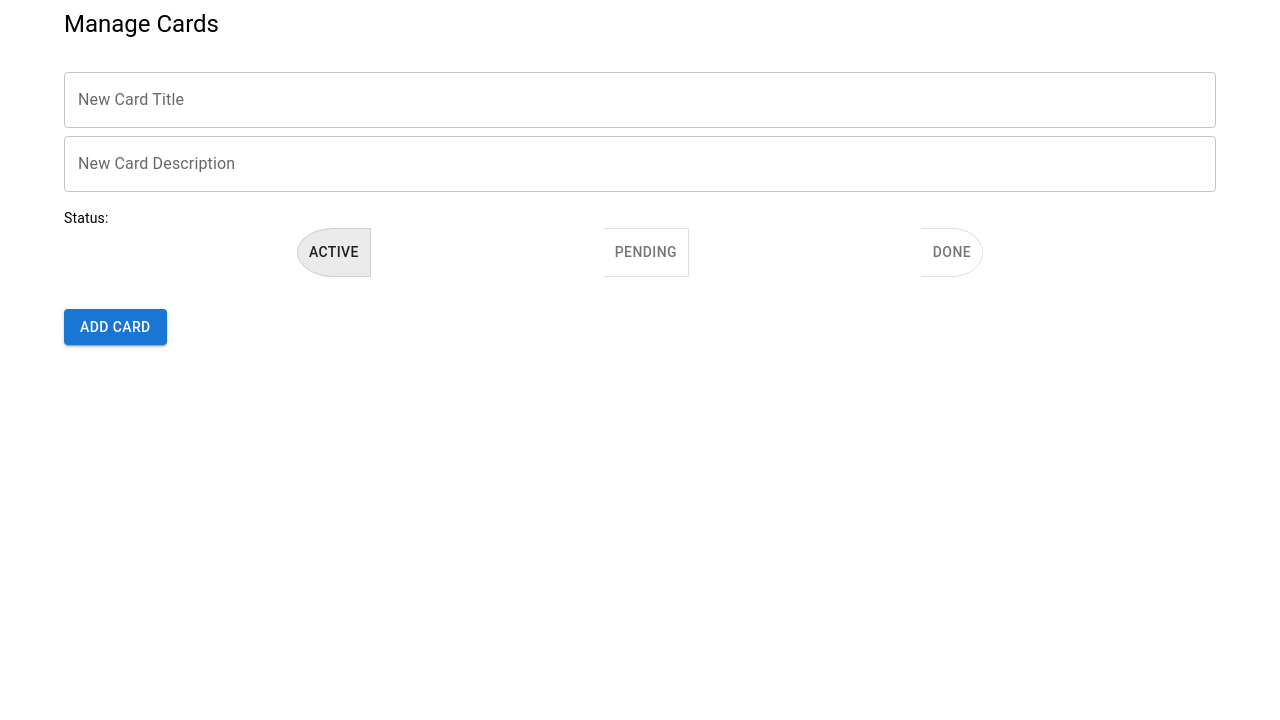
ReusableCardForm › shows an error message if title or description is missing
Note: Click the 'Add Card' button without filling in any fields
Click the button "Add Card" at x=115, y=327, box top-left (64, 308), bottom-right (167, 345)
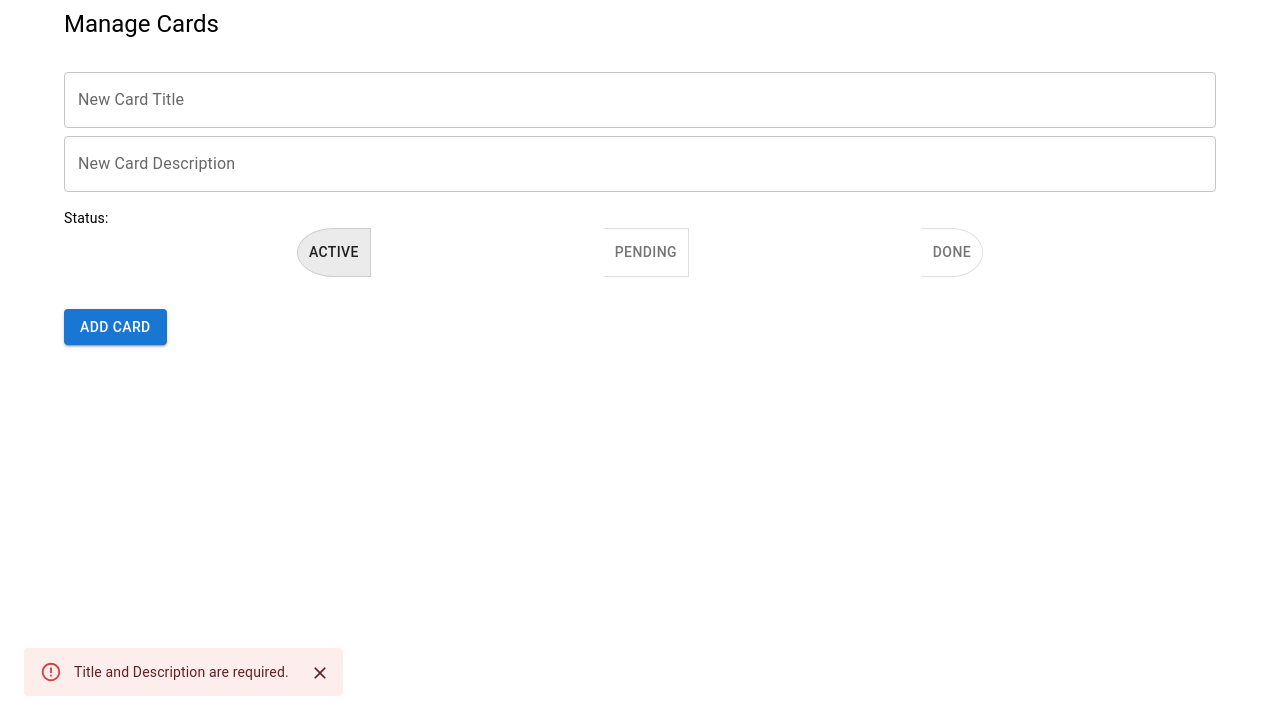
expect the text "Title and Description are required." is shown: met, box top-left (74, 664), bottom-right (289, 680)
